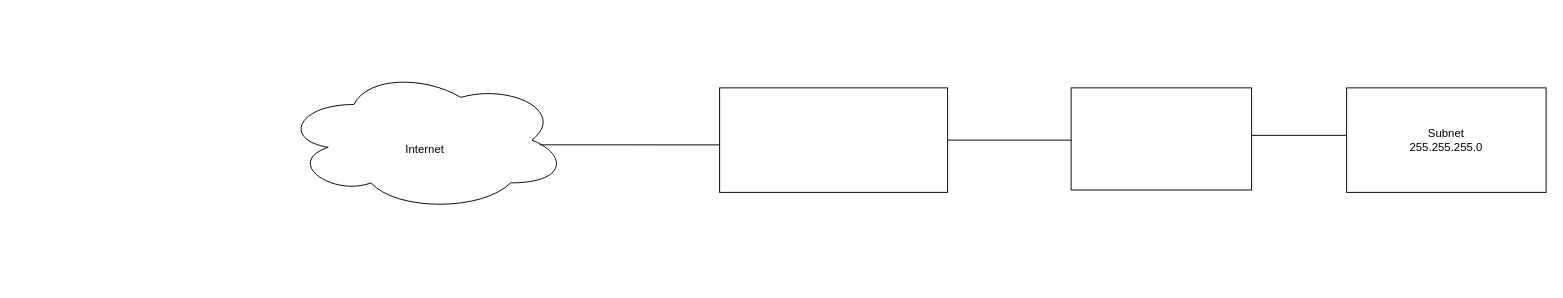
The diagram is 1563 pixels wide and 298 high, and some of its shapes have lost their labels. Here are the shapes that lost their labels. From the top down, the box of each, then its label:
(719, 87, 948, 192): Gateway 192.168.1.1
(1070, 87, 1252, 190): CIDR Block 192.168.1.0/24
